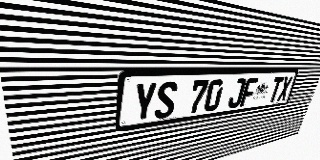0: (203, 79, 224, 112)
7: (187, 80, 209, 115)
F: (239, 78, 259, 107)
J: (227, 78, 247, 109)
S: (154, 81, 178, 119)
T: (267, 77, 284, 103)
X: (276, 76, 293, 101)
Y: (132, 82, 158, 123)
